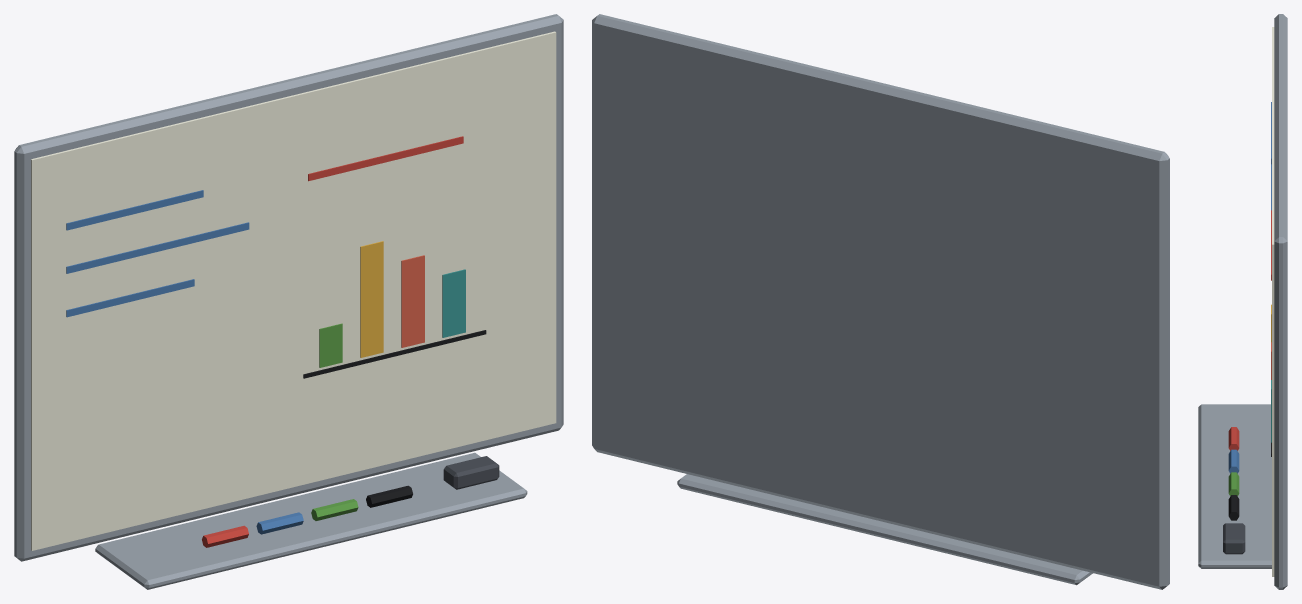
File: whiteboard.glb
3 views of the same model, side by side, from view 1: azimuth 30°, elevation 25°; view 2: azimuth 150°, elevation 25°; view 3: azimuth 270°, elevation 25° (orthographic). The views are drawn at different scales.
Visible parts, largest first — view 1: whiteboard_Body; view 2: whiteboard_Body; view 3: whiteboard_Body.
Part boxes in pixels (x1,y1,x2,y2): whiteboard_Body: (14,14,563,589); whiteboard_Body: (592,14,1169,589); whiteboard_Body: (1198,14,1287,589).
Bounding box in the file's own units: 1.2 × 0.9 × 0.2.
